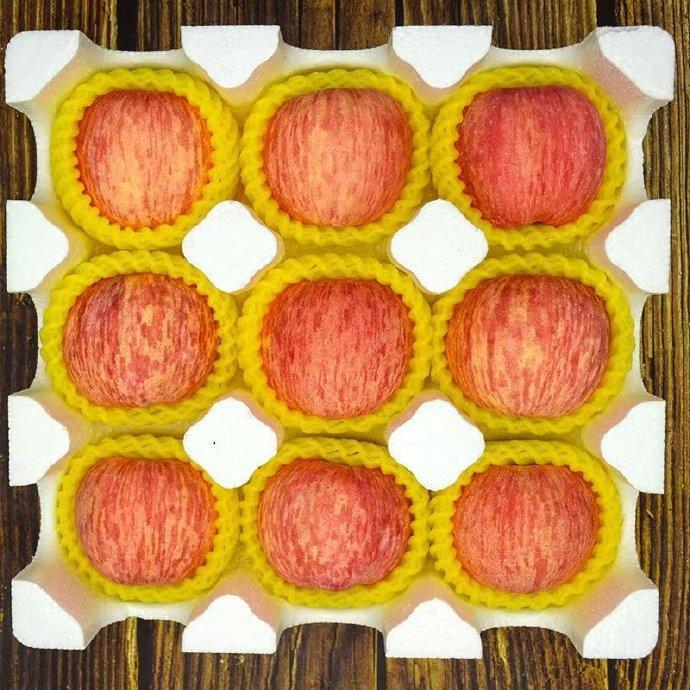apple: (444, 274, 612, 422), (458, 84, 609, 229), (73, 90, 213, 225), (458, 461, 598, 596), (70, 271, 210, 406), (75, 454, 215, 589), (263, 458, 403, 593), (268, 90, 408, 225)
